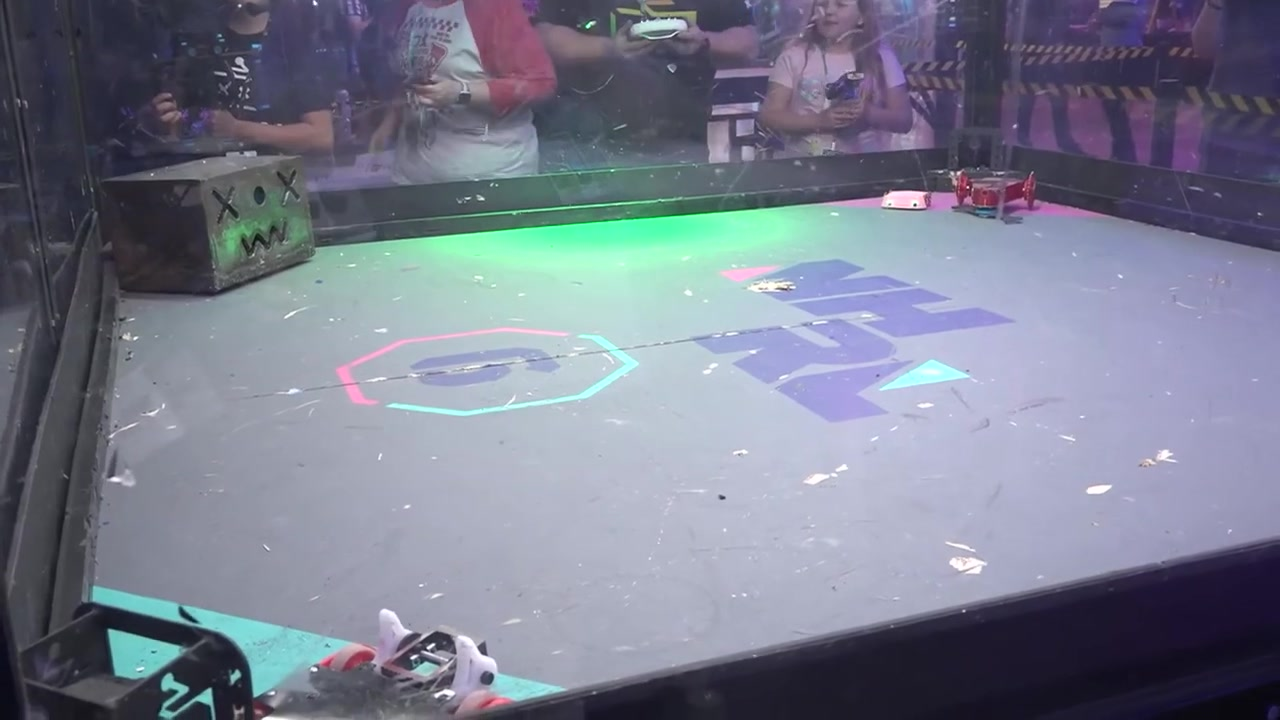combatbot: (247, 609, 525, 720), (948, 164, 1040, 211)
housebot: (103, 152, 320, 297)
minibot: (879, 189, 932, 210)
